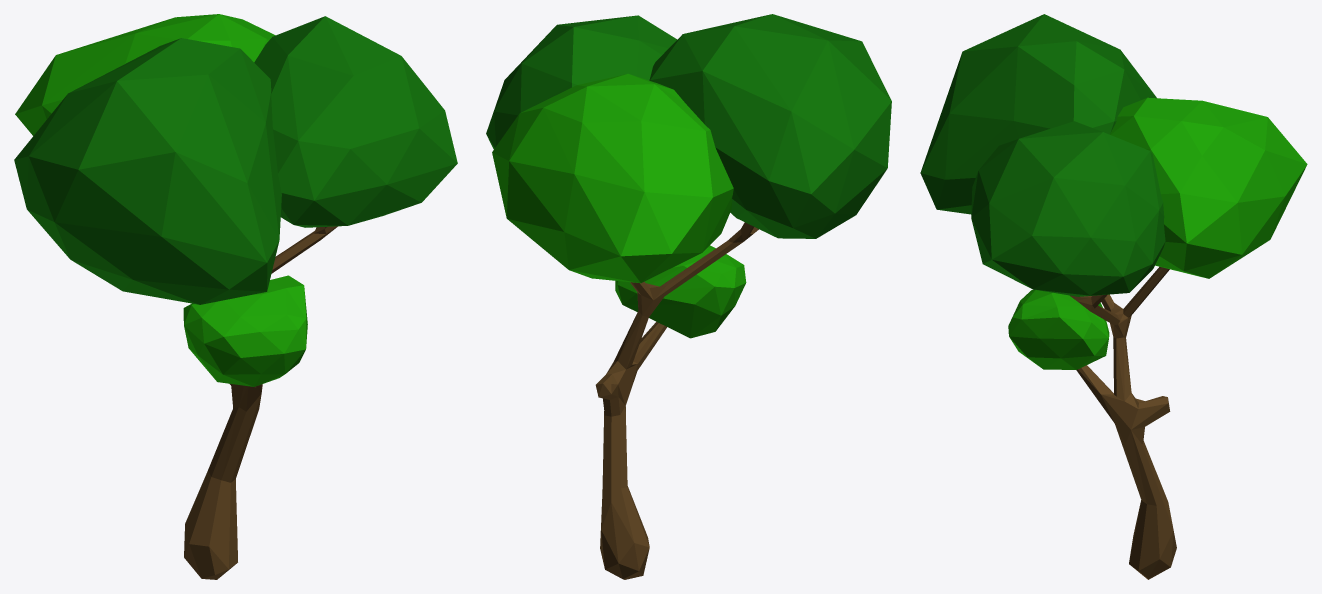
Rendered from LeafTree1.fbx.
3 views of the same model, side by side, from view 1: azimuth 30°, elevation 25°; view 2: azimuth 150°, elevation 25°; view 3: azimuth 270°, elevation 25° (orthographic). The views are drawn at different scales.
Visible parts, largest first — view 1: LoofBoom1; view 2: LoofBoom1; view 3: LoofBoom1.
Boxes of the visible parts, left/top/right/bottom form: LoofBoom1: left=14, top=14, right=457, bottom=579; LoofBoom1: left=486, top=14, right=891, bottom=579; LoofBoom1: left=920, top=14, right=1307, bottom=579.
Bounding box in the file's own units: 5.63 × 7.98 × 5.53.
